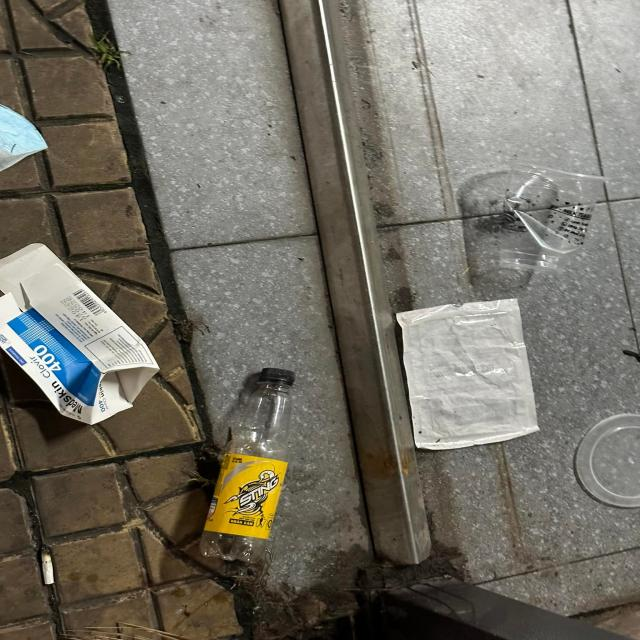bottle: (198, 367, 297, 562)
cardboard box: (2, 242, 164, 426)
lid: (575, 413, 640, 508)
packet: (396, 297, 540, 450)
plastic glass: (499, 162, 609, 272)
